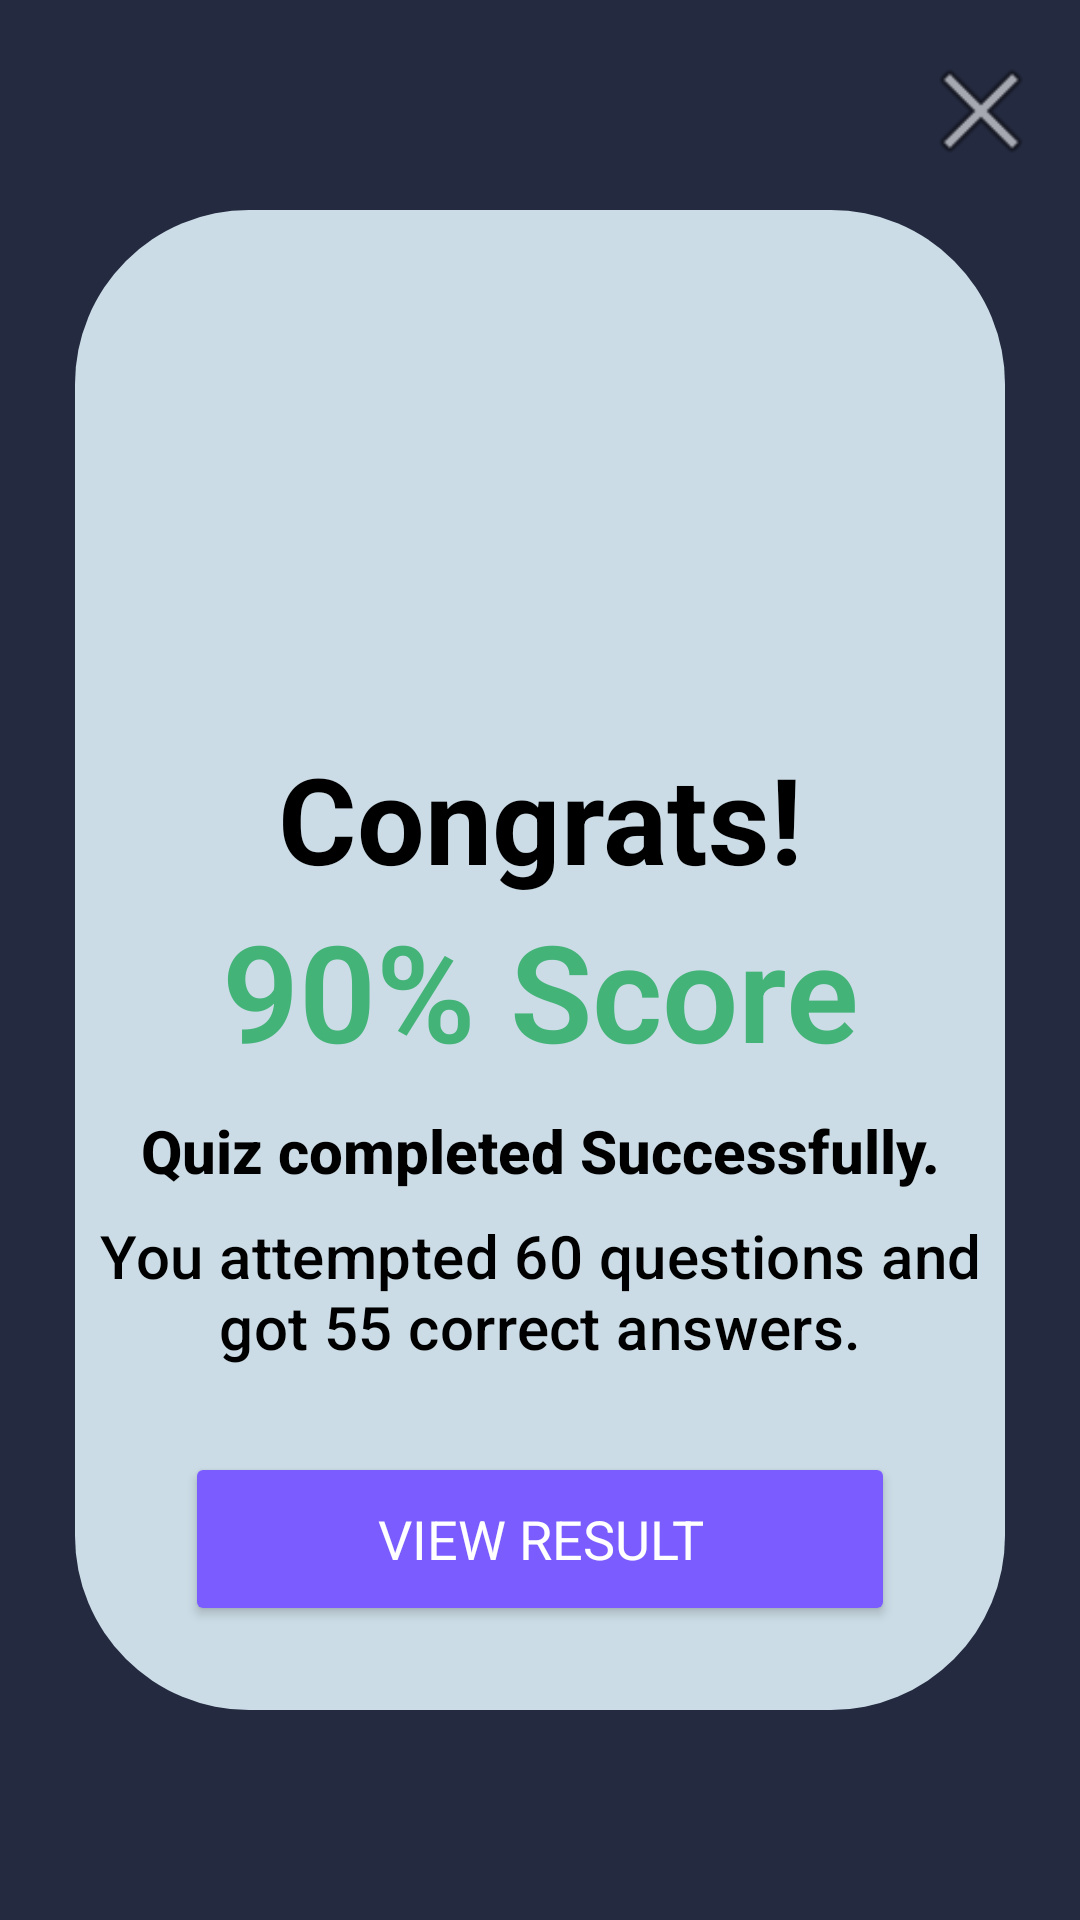

Named icons in this screenshot (1080x1920) and their bounding boxes, (x1, y1, x2, y2):
close clear cancel: (942, 72, 1020, 150)
